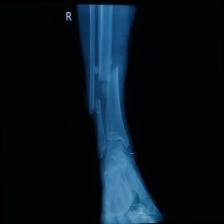open-compound-fracture: (76, 0, 166, 224)
